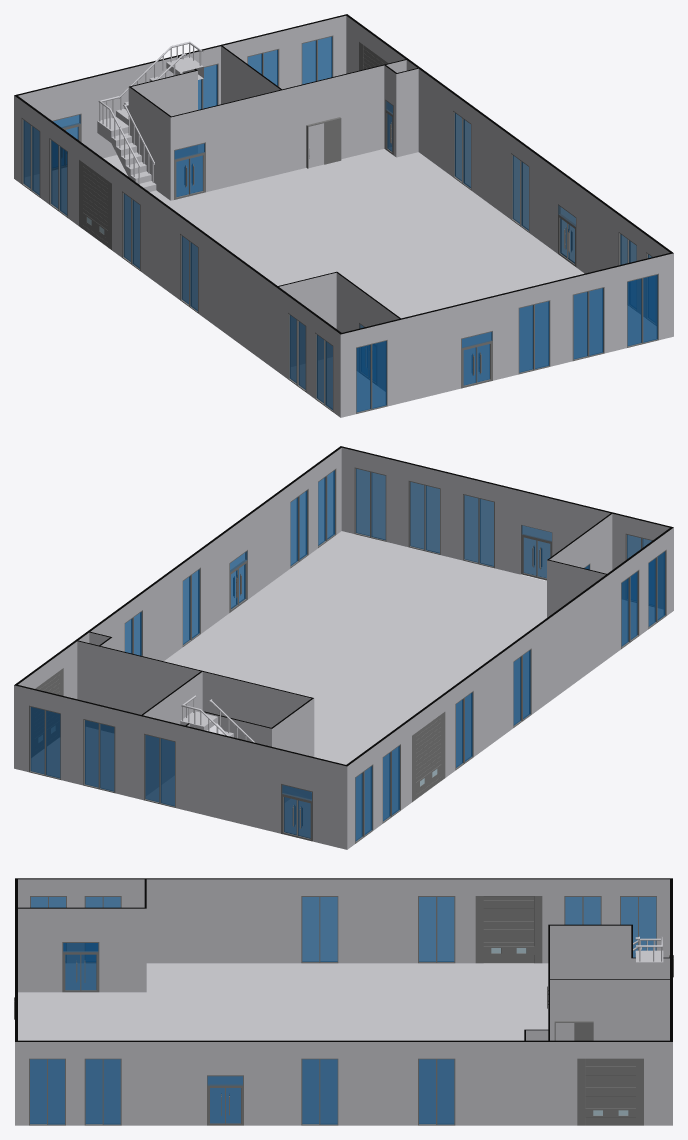
3 renders of one model, top to bottom at view 1: azimuth 30°, elevation 25°; view 2: azimuth 150°, elevation 25°; view 3: azimuth 270°, elevation 25°, orthographic.
Parts seen in each view (by area): view 1: 1층_벽, 1층_바닥, 1층_창문, 1층_유리문, 외부 계단002, 1층_OHD, 1층_미닫이문; view 2: 1층_벽, 1층_바닥, 1층_창문, 1층_유리문, 1층_OHD, 외부 계단002; view 3: 1층_벽, 1층_바닥, 1층_창문, 1층_OHD, 1층_유리문, 외부 계단002, 1층_미닫이문.
Boxes of the visible parts, left/top/right/bottom form: 1층_벽: left=14, top=14, right=673, bottom=417; 1층_바닥: left=25, top=144, right=656, bottom=411; 1층_창문: left=21, top=35, right=658, bottom=413; 1층_유리문: left=52, top=99, right=576, bottom=388; 외부 계단002: left=97, top=41, right=203, bottom=191; 1층_OHD: left=79, top=42, right=388, bottom=249; 1층_미닫이문: left=306, top=117, right=341, bottom=168; 1층_벽: left=14, top=446, right=673, bottom=849; 1층_바닥: left=31, top=531, right=663, bottom=839; 1층_창문: left=29, top=467, right=666, bottom=843; 1층_유리문: left=229, top=525, right=590, bottom=841; 1층_OHD: left=31, top=668, right=445, bottom=802; 외부 계단002: left=180, top=695, right=311, bottom=798; 1층_벽: left=15, top=878, right=672, bottom=1125; 1층_바닥: left=18, top=963, right=548, bottom=1123; 1층_창문: left=29, top=896, right=656, bottom=1125; 1층_OHD: left=475, top=896, right=643, bottom=1125; 1층_유리문: left=14, top=942, right=673, bottom=1125; 외부 계단002: left=633, top=936, right=663, bottom=974; 1층_미닫이문: left=554, top=1021, right=593, bottom=1040.
Bounding box in the file's own units: 20.96 × 5.97 × 35.62.
